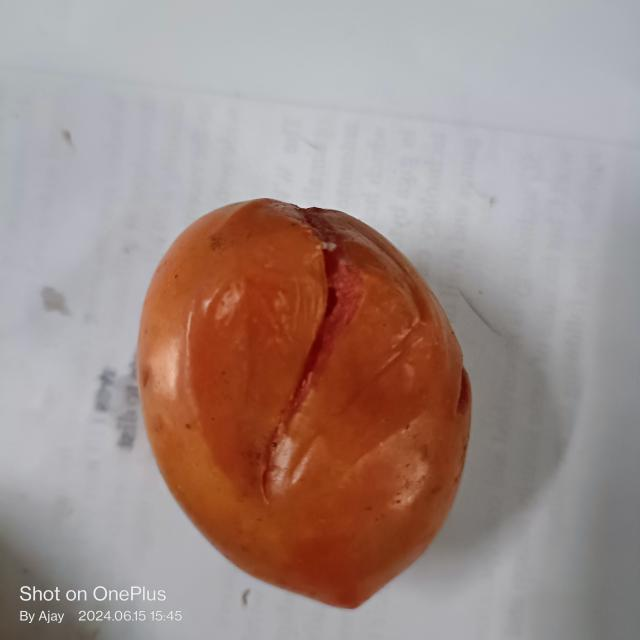Botrytis: (259, 210, 346, 488)
